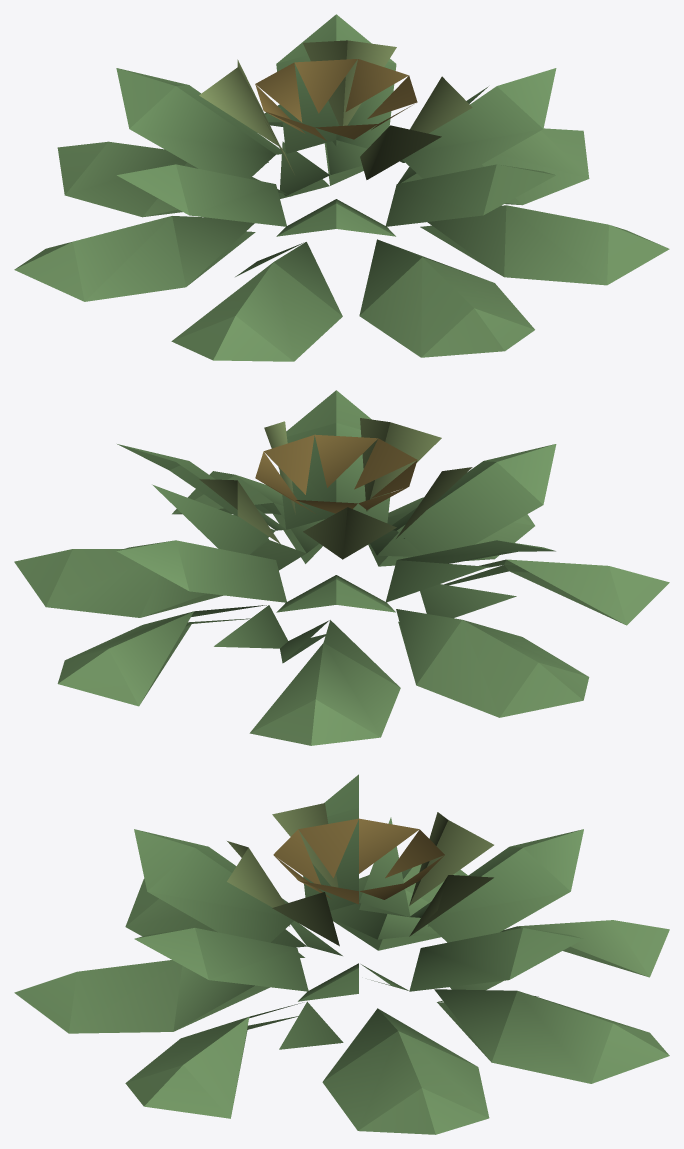
Rendered from crop.lod.glb.
3 renders of one model, top to bottom at view 1: azimuth 30°, elevation 25°; view 2: azimuth 150°, elevation 25°; view 3: azimuth 270°, elevation 25°, orthographic. The views are drawn at different scales.
Visible parts, largest first — view 1: crop; view 2: crop; view 3: crop.
Boxes of the visible parts, <box> form: crop: <box>14,14,669,361</box>; crop: <box>14,390,669,745</box>; crop: <box>14,774,669,1134</box>.
Bounding box in the file's own units: 0.7981 × 0.2064 × 0.7781.
